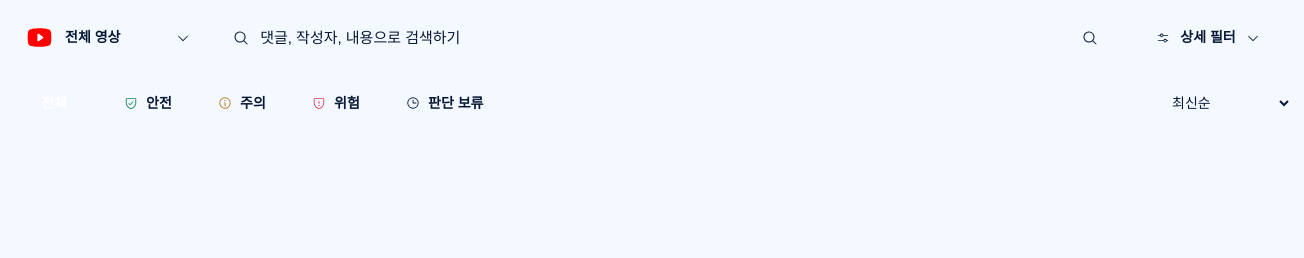
it: Inbox filter interactions › expands and collapses the advanced controls
Expected: the field labelled "기간" is not shown
Click the button "상세 필터": [1208, 38] box x1=1124 y1=12 x2=1292 y2=63
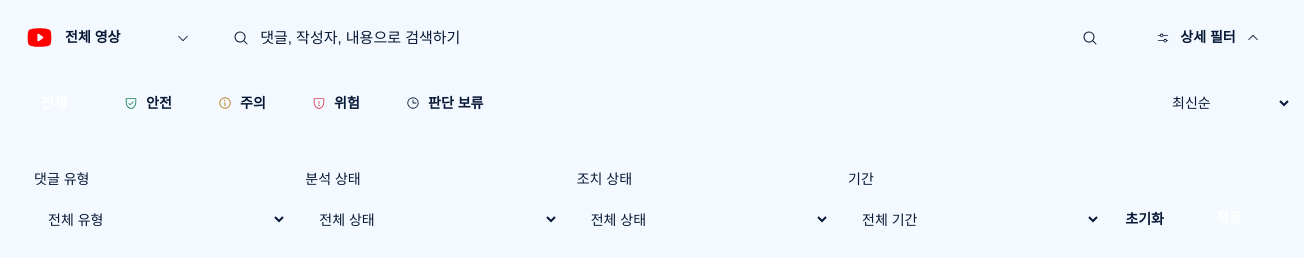
Result: the dropdown labelled "기간" is shown at x1=848 y1=198 x2=1101 y2=241
Click the button "상세 필터": [1208, 38] box x1=1124 y1=12 x2=1292 y2=63
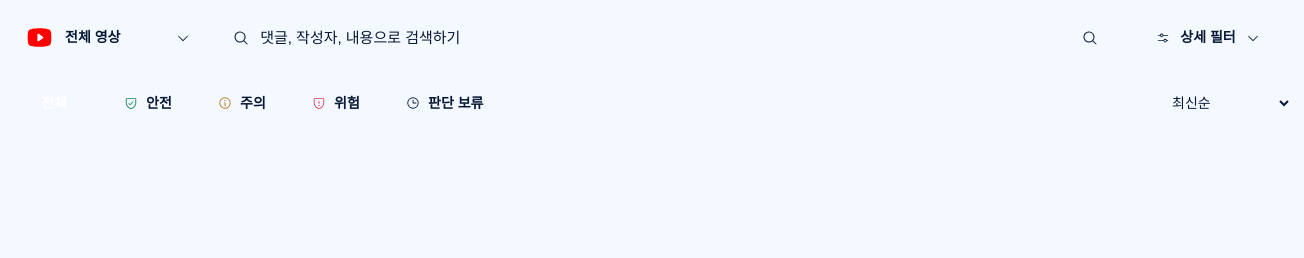
Result: the text labelled "기간" is gone
